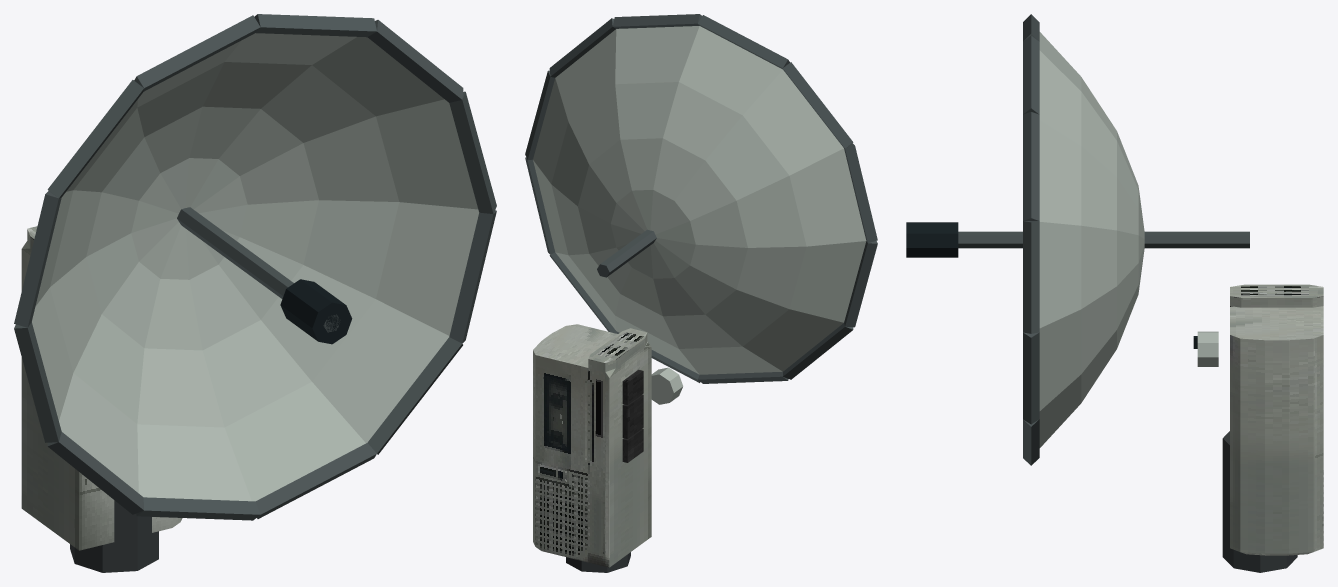
Rendered from blender_parabolic_microphone_1.glb.
3 renders of one model, left to right at view 1: azimuth 30°, elevation 25°; view 2: azimuth 150°, elevation 25°; view 3: azimuth 270°, elevation 25°, orthographic. The views are drawn at different scales.
Visible parts, largest first — view 1: blender_parabolic_microphone_1; view 2: blender_parabolic_microphone_1; view 3: blender_parabolic_microphone_1.
Part boxes in pixels (<box>): blender_parabolic_microphone_1: <box>14,14,496,572</box>; blender_parabolic_microphone_1: <box>525,14,877,572</box>; blender_parabolic_microphone_1: <box>906,14,1323,572</box>.
Size of the model in its own units: 0.2177 by 0.2769 by 0.2005.
1 material, 1 textured.
